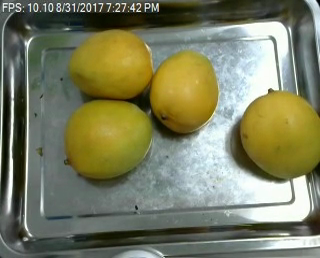Mango: (238, 91, 320, 178), (62, 100, 152, 179), (148, 50, 220, 134), (70, 26, 153, 98)
